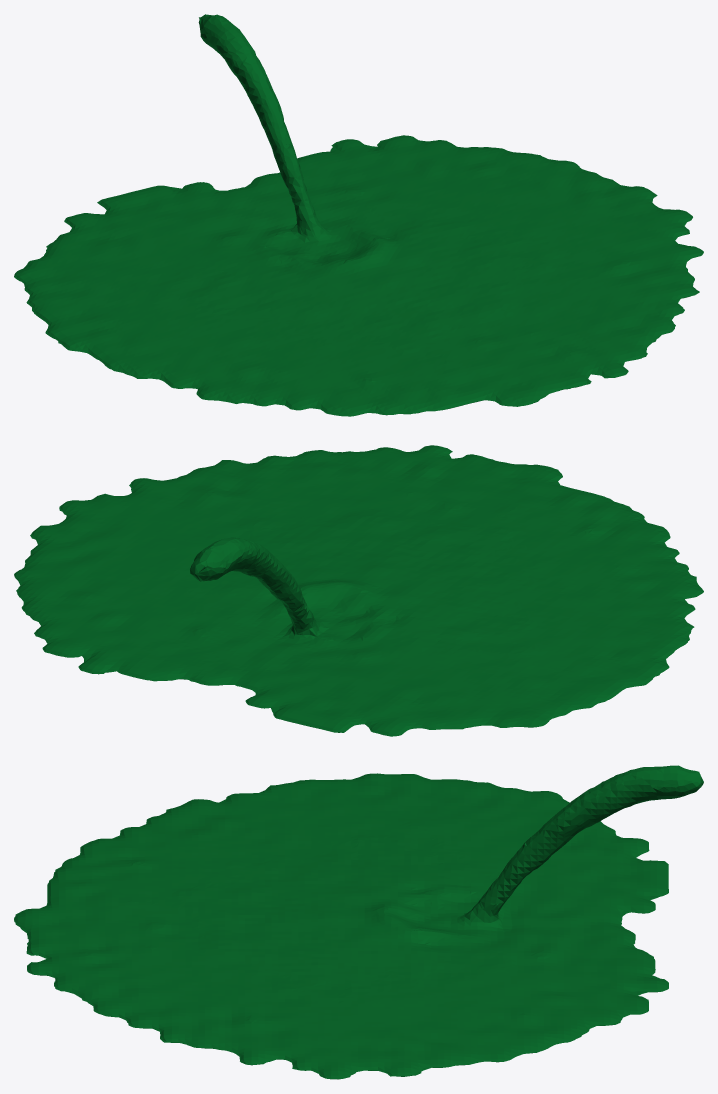
File: fluid_43.fbx
3 views of the same model, one above another, from view 1: azimuth 30°, elevation 25°; view 2: azimuth 150°, elevation 25°; view 3: azimuth 270°, elevation 25° (orthographic). The views are drawn at different scales.
Parts seen in each view (by area): view 1: Cube; view 2: Cube; view 3: Cube.
Boxes of the visible parts, left/top/right/bottom form: Cube: left=14, top=14, right=703, bottom=416; Cube: left=14, top=445, right=703, bottom=736; Cube: left=14, top=765, right=703, bottom=1079.
Bounding box in the file's own units: 712 × 176 × 681.
